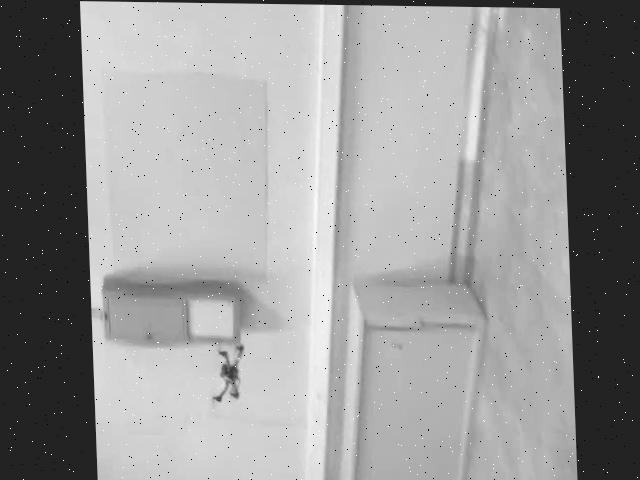drone: (204, 340, 248, 409)
